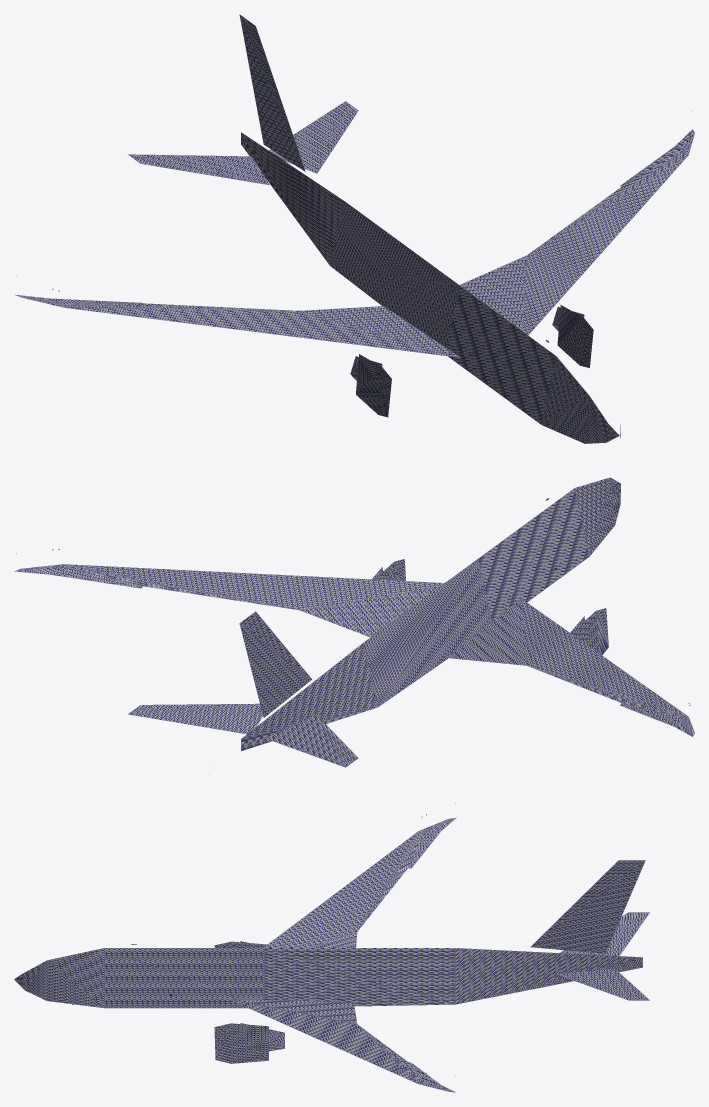
The model's file is TFS_B772GE_LOD1.gltf.
3 views of the same model, one above another, from view 1: azimuth 30°, elevation 25°; view 2: azimuth 150°, elevation 25°; view 3: azimuth 270°, elevation 25° (orthographic). The views are drawn at different scales.
Visible parts, largest first — view 1: low_poly_model; view 2: low_poly_model; view 3: low_poly_model.
Boxes of the visible parts, x1,y1,x2,y2 form: low_poly_model: [15, 14, 694, 443]; low_poly_model: [14, 477, 694, 767]; low_poly_model: [14, 817, 649, 1092].
Bounding box in the file's own units: 65.39 × 17.6 × 68.44.
